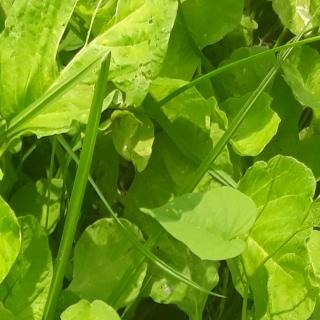karat_putih: (49, 297, 177, 320)
